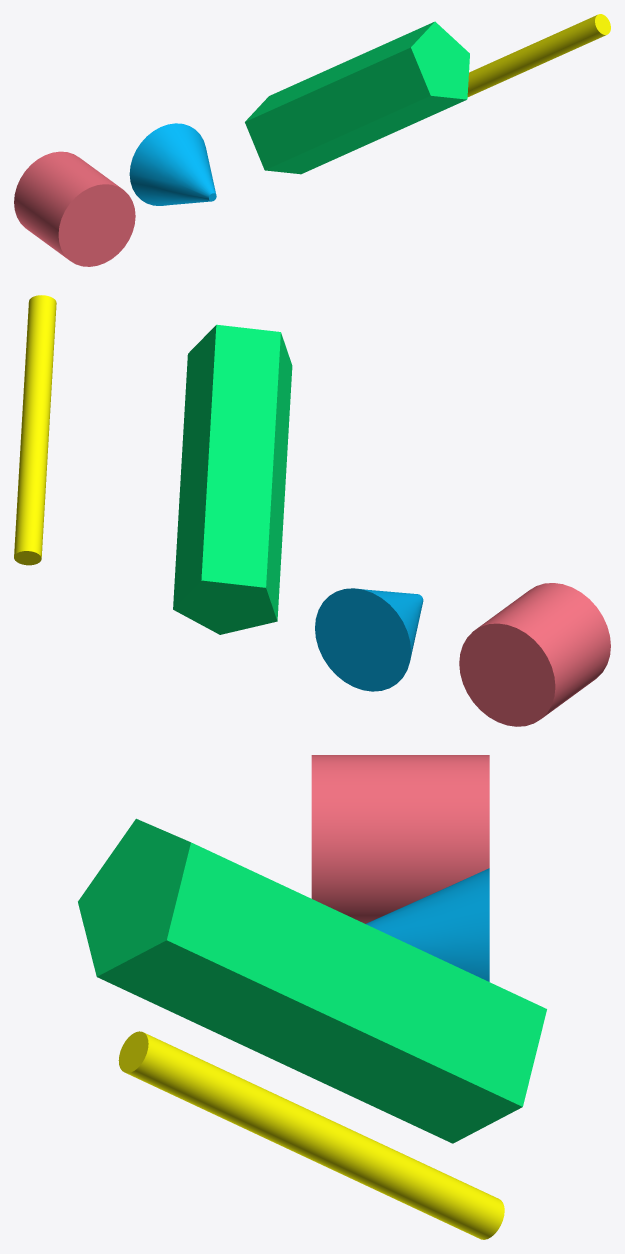
File: pad.glb
The picture shows the model from 3 angles, top to bottom: view 1: azimuth 30°, elevation 25°; view 2: azimuth 150°, elevation 25°; view 3: azimuth 270°, elevation 25°; orthographic projection. The views are drawn at different scales.
Parts seen in each view (by area): view 1: COMPOUND; view 2: COMPOUND; view 3: COMPOUND.
Part boxes in pixels (x1,y1,x2,y2): COMPOUND: [14, 14, 610, 266]; COMPOUND: [14, 295, 610, 726]; COMPOUND: [78, 755, 546, 1239].
Size of the model in its own units: 0.0132 by 0.00475 by 0.00527.
